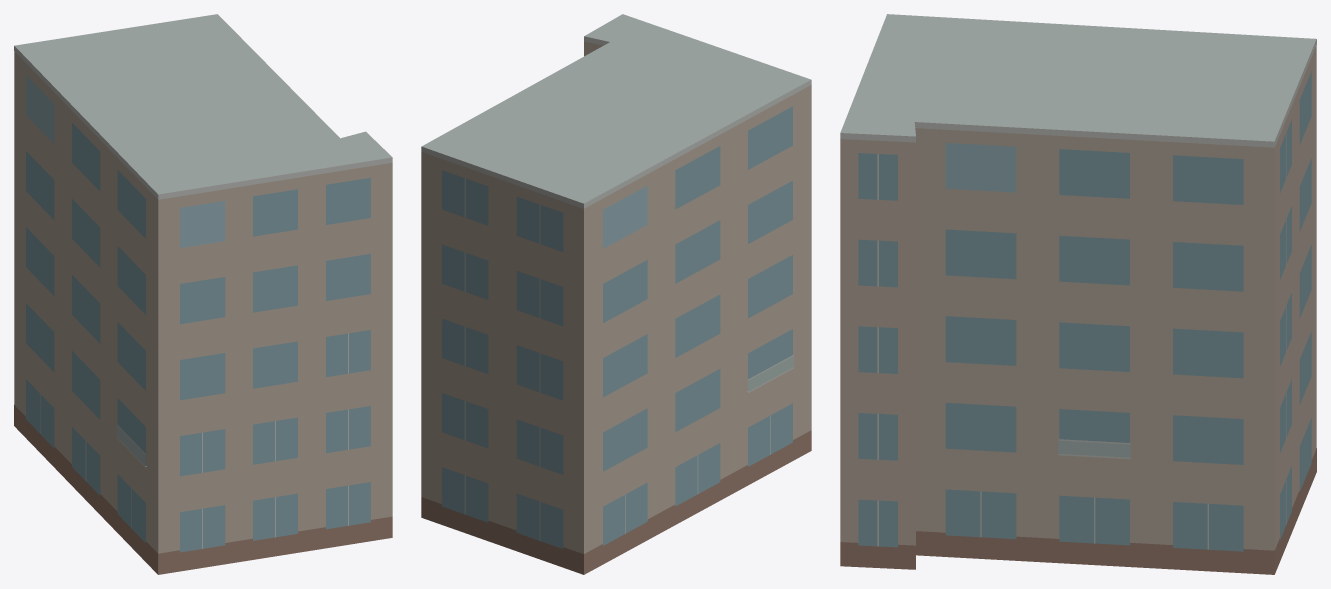
Rendered from survey-upis-32894817.glb.
3 renders of one model, left to right at view 1: azimuth 30°, elevation 25°; view 2: azimuth 150°, elevation 25°; view 3: azimuth 270°, elevation 25°, orthographic. The views are drawn at different scales.
Visible parts, largest first — view 1: survey-upis-32894817.tmp; view 2: survey-upis-32894817.tmp; view 3: survey-upis-32894817.tmp.
Part boxes in pixels (bbox=[...]): survey-upis-32894817.tmp: bbox=[14, 14, 392, 574]; survey-upis-32894817.tmp: bbox=[421, 14, 811, 574]; survey-upis-32894817.tmp: bbox=[840, 14, 1316, 574].
Size of the model in its own units: 11.13 by 17.6 by 17.55.
